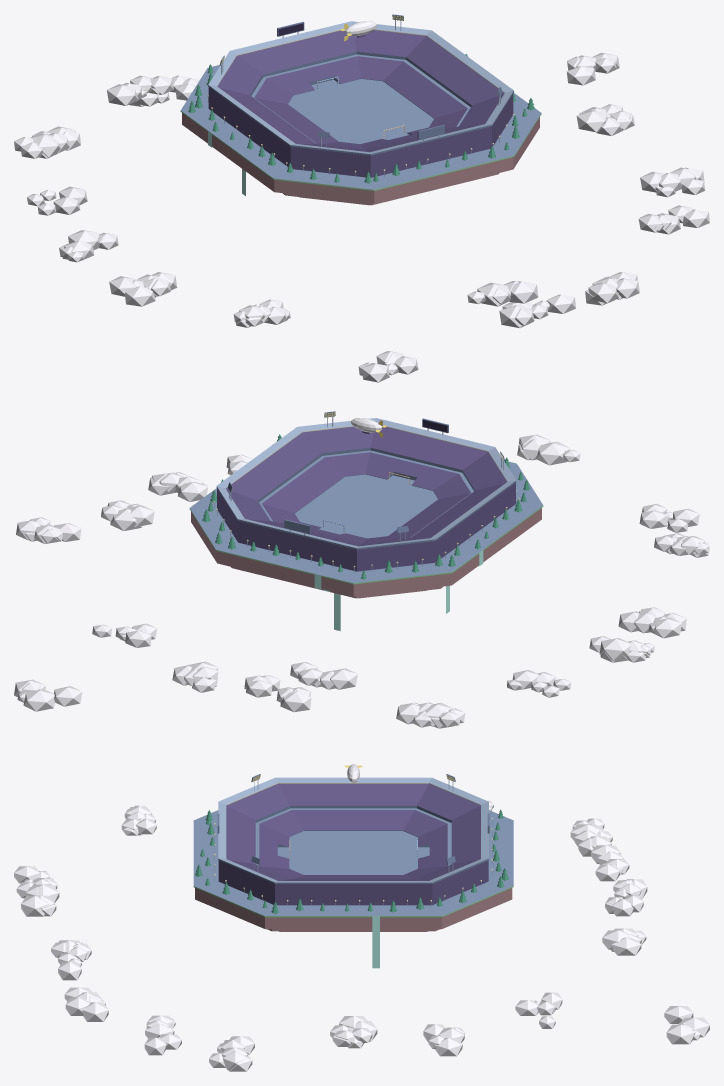
The model's file is skybowl.glb.
3 views of the same model, one above another, from view 1: azimuth 30°, elevation 25°; view 2: azimuth 150°, elevation 25°; view 3: azimuth 270°, elevation 25° (orthographic). The views are drawn at different scales.
Visible parts, largest first — view 1: bowl, island, cloud-10, plaza-props, cloud-07, cloud-14, cloud-17, cloud-16, cloud-00, cloud-13, cloud-15, cloud-06 (+6 smaller); view 2: bowl, island, plaza-props, cloud-10, cloud-03, cloud-07, cloud-05, cloud-13, cloud-09, cloud-06, cloud-01, cloud-17 (+7 smaller); view 3: bowl, island, plaza-props, cloud-03, cloud-17, cloud-05, cloud-00, cloud-15, cloud-16, cloud-14, cloud-13, cloud-07 (+6 smaller).
Part boxes in pixels (bbox=[...]): bowl: bbox=[208, 21, 513, 177]; island: bbox=[180, 65, 541, 205]; cloud-10: bbox=[109, 272, 177, 306]; plaza-props: bbox=[188, 53, 534, 183]; cloud-07: bbox=[14, 126, 80, 158]; cloud-14: bbox=[499, 294, 575, 327]; cloud-17: bbox=[640, 167, 705, 197]; cloud-16: bbox=[638, 205, 709, 234]; cloud-00: bbox=[576, 104, 634, 135]; cloud-13: bbox=[467, 281, 538, 306]; cloud-15: bbox=[585, 272, 639, 305]; cloud-06: bbox=[107, 75, 173, 105]; bowl: bbox=[216, 418, 516, 571]; island: bbox=[189, 461, 543, 598]; plaza-props: bbox=[202, 434, 530, 579]; cloud-10: bbox=[618, 607, 686, 638]; cloud-03: bbox=[14, 679, 82, 711]; cloud-07: bbox=[396, 702, 465, 728]; cloud-05: bbox=[244, 675, 311, 712]; cloud-13: bbox=[517, 434, 580, 465]; cloud-09: bbox=[589, 636, 654, 662]; cloud-06: bbox=[290, 662, 357, 689]; cloud-01: bbox=[16, 517, 81, 543]; cloud-17: bbox=[148, 472, 207, 501]; bowl: bbox=[218, 777, 488, 905]; island: bbox=[193, 810, 513, 931]; plaza-props: bbox=[195, 809, 508, 913]; cloud-03: bbox=[664, 1006, 709, 1044]; cloud-17: bbox=[209, 1036, 254, 1071]; cloud-05: bbox=[605, 879, 647, 916]; cloud-00: bbox=[330, 1016, 377, 1048]; cloud-15: bbox=[64, 987, 108, 1021]; cloud-16: bbox=[144, 1015, 181, 1055]; cloud-14: bbox=[51, 940, 91, 980]; cloud-13: bbox=[21, 879, 59, 916]; cloud-07: bbox=[570, 818, 612, 856].
Size of the model in its own units: 529 by 175 by 554.
